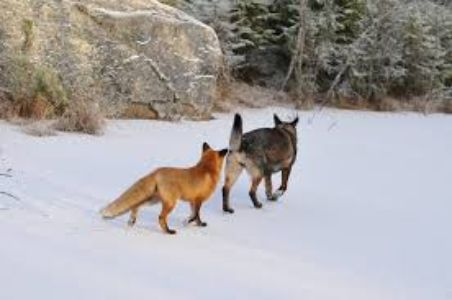fox: (100, 136, 220, 230)
wolf: (230, 106, 306, 218)
